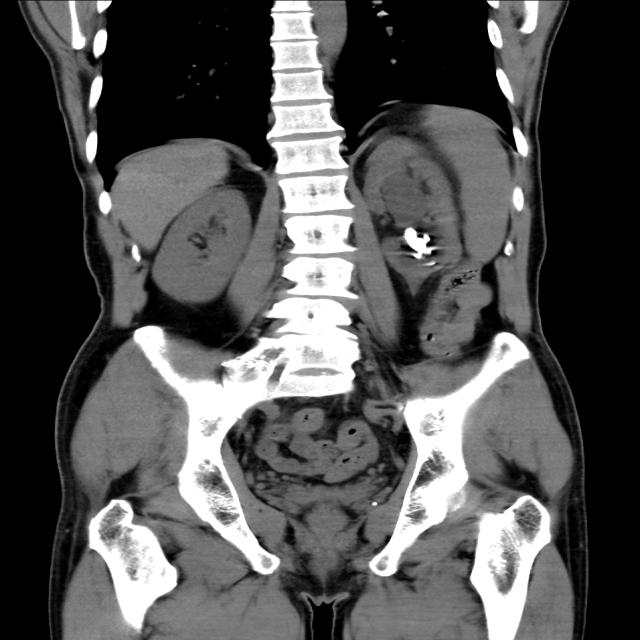kidneystone: (404, 228, 435, 259)
